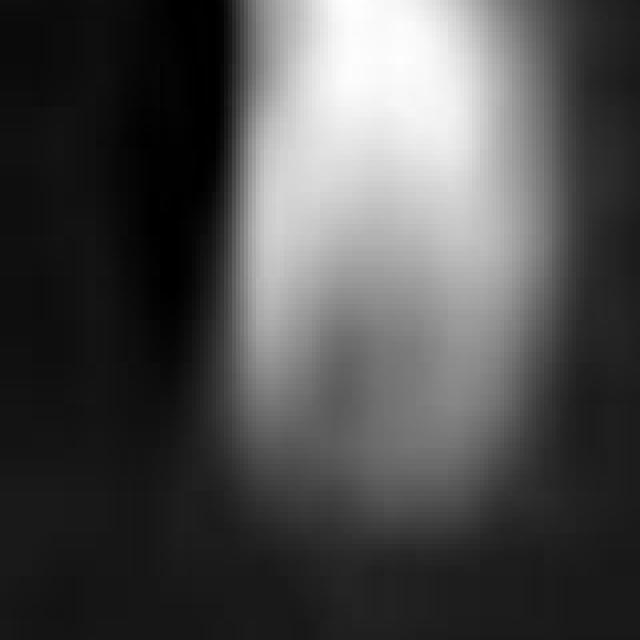person: (181, 1, 545, 513)
